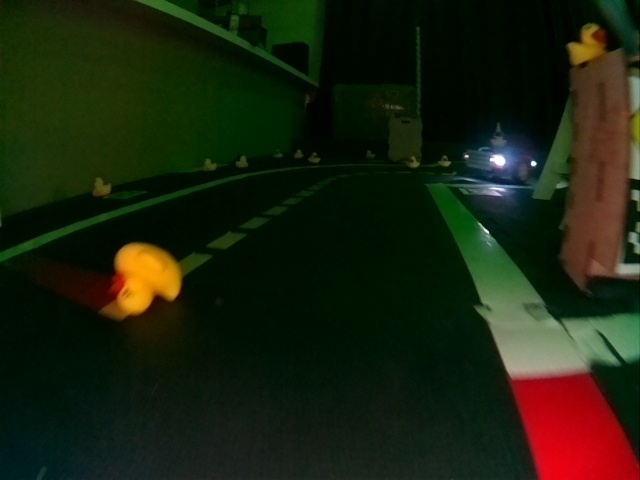Duckie: (113, 242, 182, 309), (569, 23, 606, 66), (93, 179, 109, 194), (205, 159, 215, 169), (236, 156, 246, 166), (308, 152, 318, 162), (409, 158, 418, 168), (440, 156, 449, 165), (296, 149, 304, 158), (367, 150, 375, 159), (275, 149, 283, 157)
Duckiebot: (465, 147, 535, 182)
QR code: (109, 191, 146, 199)
